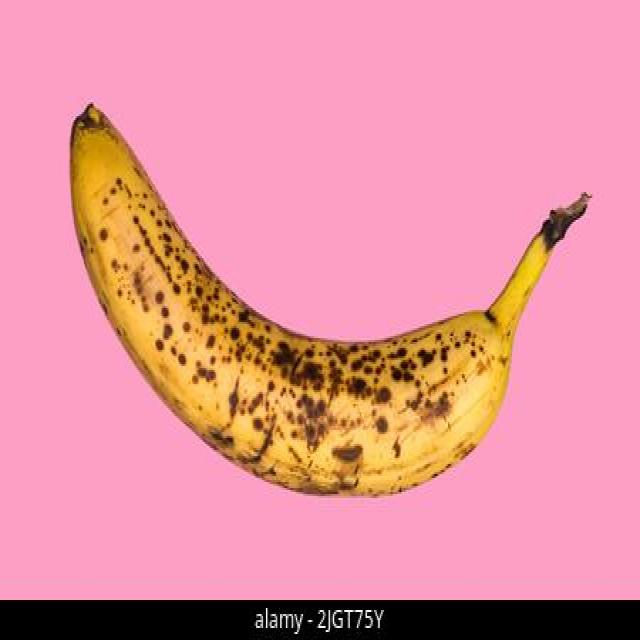overripe: (66, 100, 562, 507)
